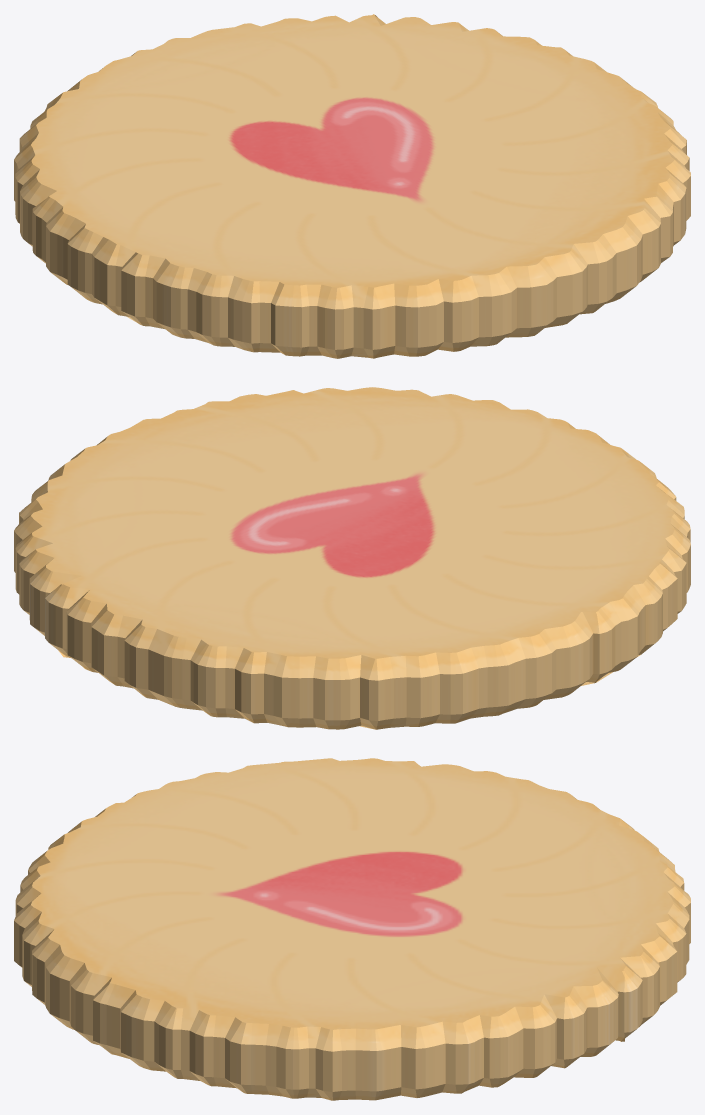
The model's file is cookie.glb.
3 views of the same model, one above another, from view 1: azimuth 30°, elevation 25°; view 2: azimuth 150°, elevation 25°; view 3: azimuth 270°, elevation 25° (orthographic).
Parts seen in each view (by area): view 1: Plane; view 2: Plane; view 3: Plane.
Part boxes in pixels (x1,y1,x2,y2): Plane: [14, 14, 690, 358]; Plane: [14, 387, 690, 729]; Plane: [14, 758, 690, 1100].
Bounding box in the file's own units: 1.39 × 0.1634 × 1.39.
1 material, 1 textured.
